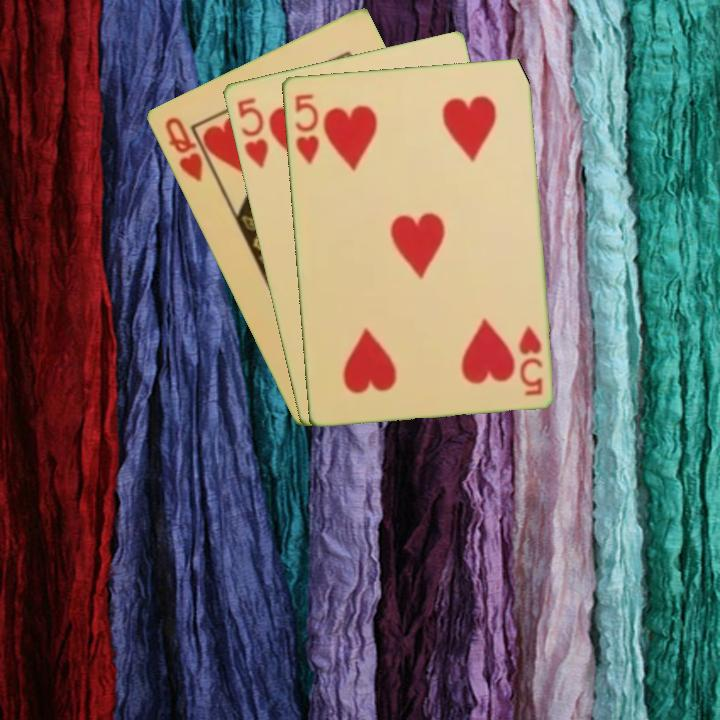5h: (233, 93, 271, 172), (291, 90, 321, 167), (515, 321, 545, 398)
Qh: (160, 113, 205, 185)
